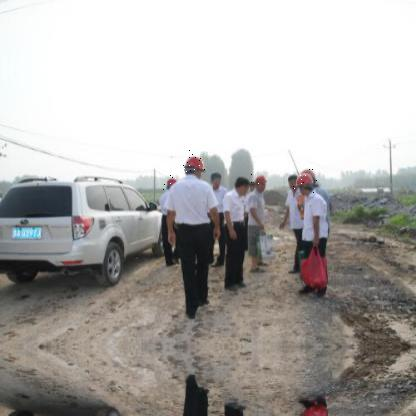safetyhelmet: (182, 150, 207, 174), (292, 174, 317, 194), (161, 170, 182, 192), (300, 168, 318, 186), (251, 172, 269, 190)
